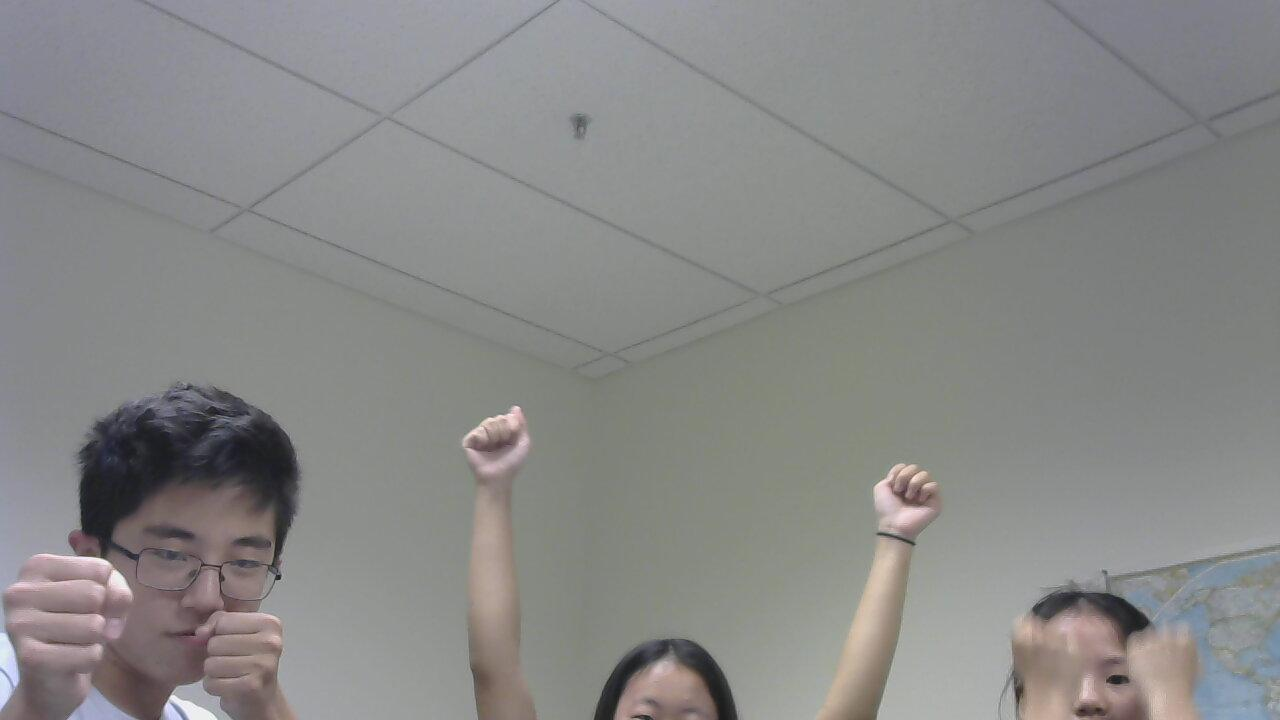fist: (3, 537, 147, 699), (191, 597, 309, 718), (441, 382, 555, 504), (858, 452, 965, 558), (1128, 614, 1214, 703)
